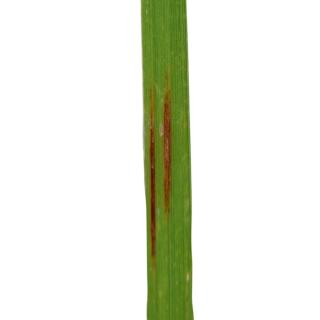Bercak-Cokelat-Sempit: (143, 73, 177, 272)
